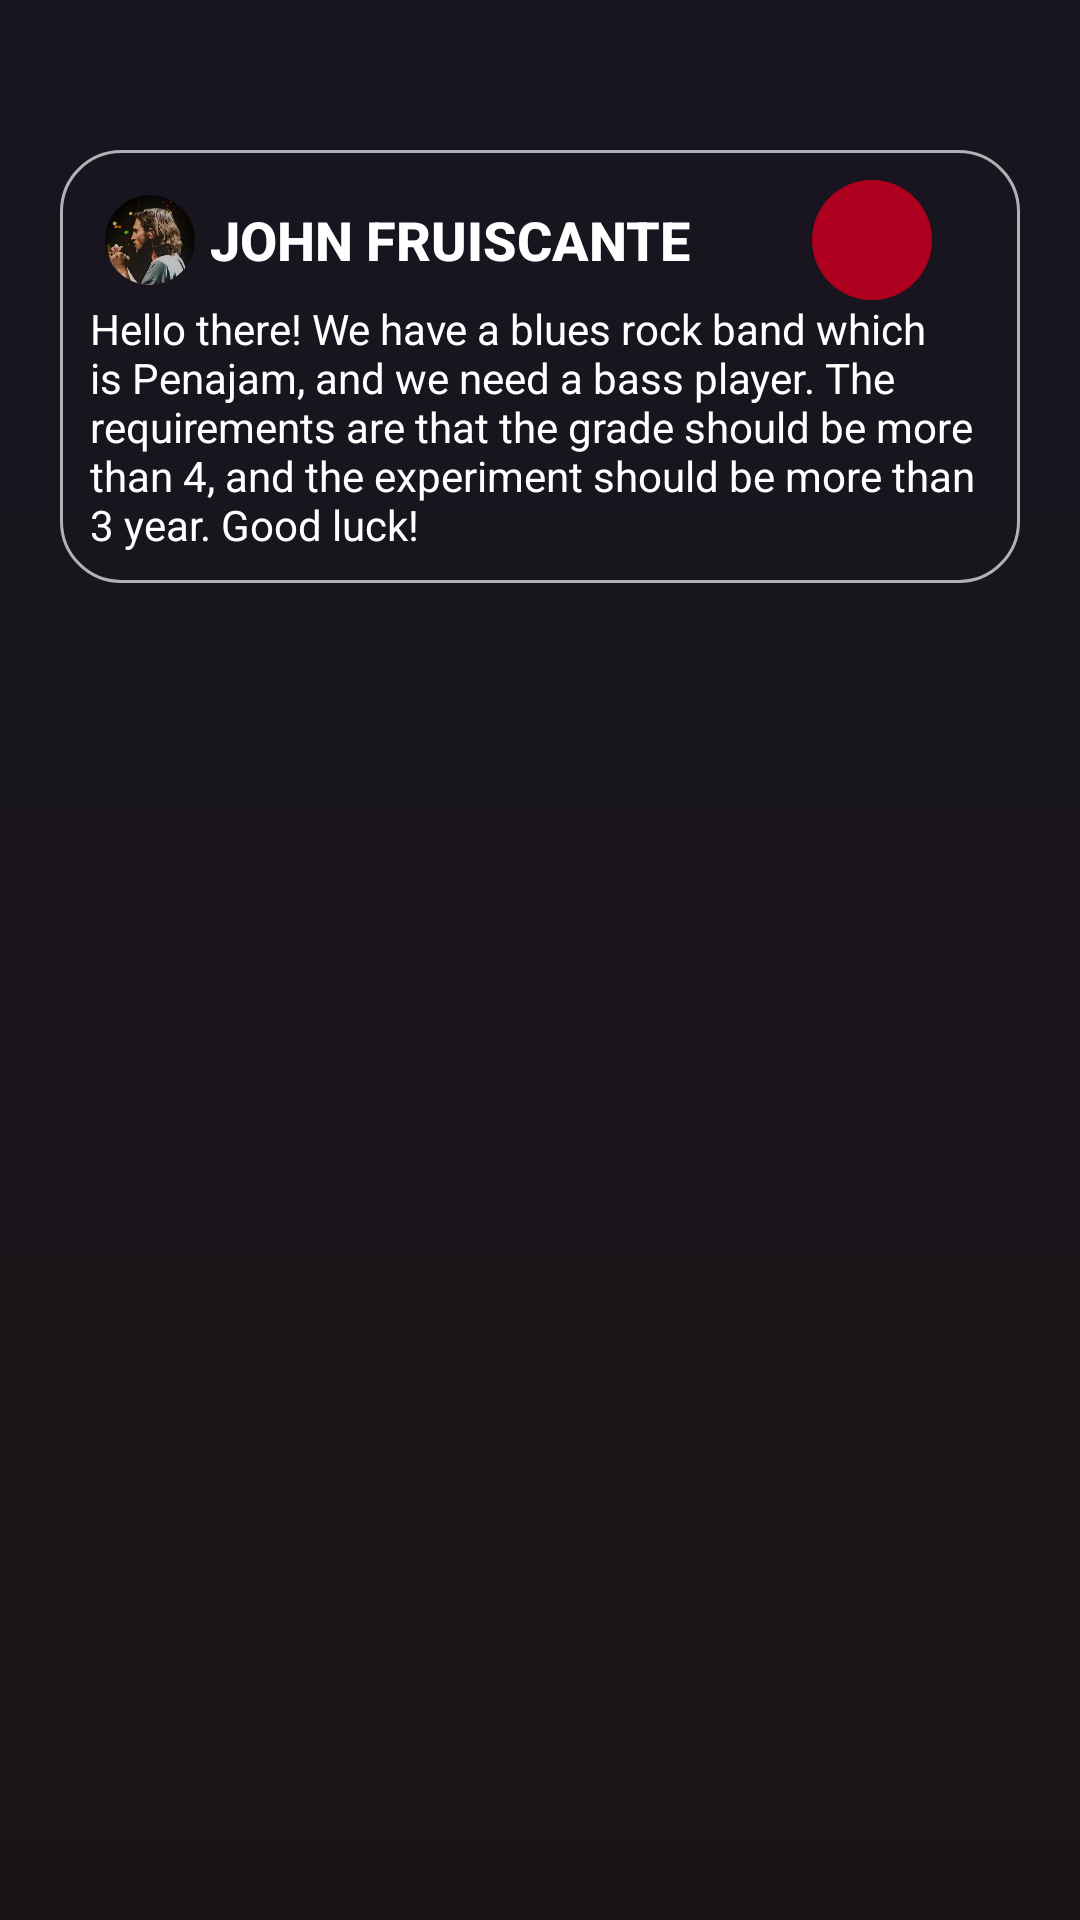

Screen size 1080*1920. Icon name, then its box in pixels as [x1=x1, y1=y1, x2=x2, y2=y2]:
defaulthuman: [x1=105, y1=195, x2=195, y2=285]
